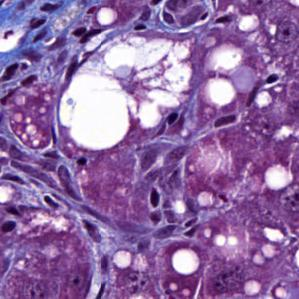ballooning: (55, 32, 195, 154)
